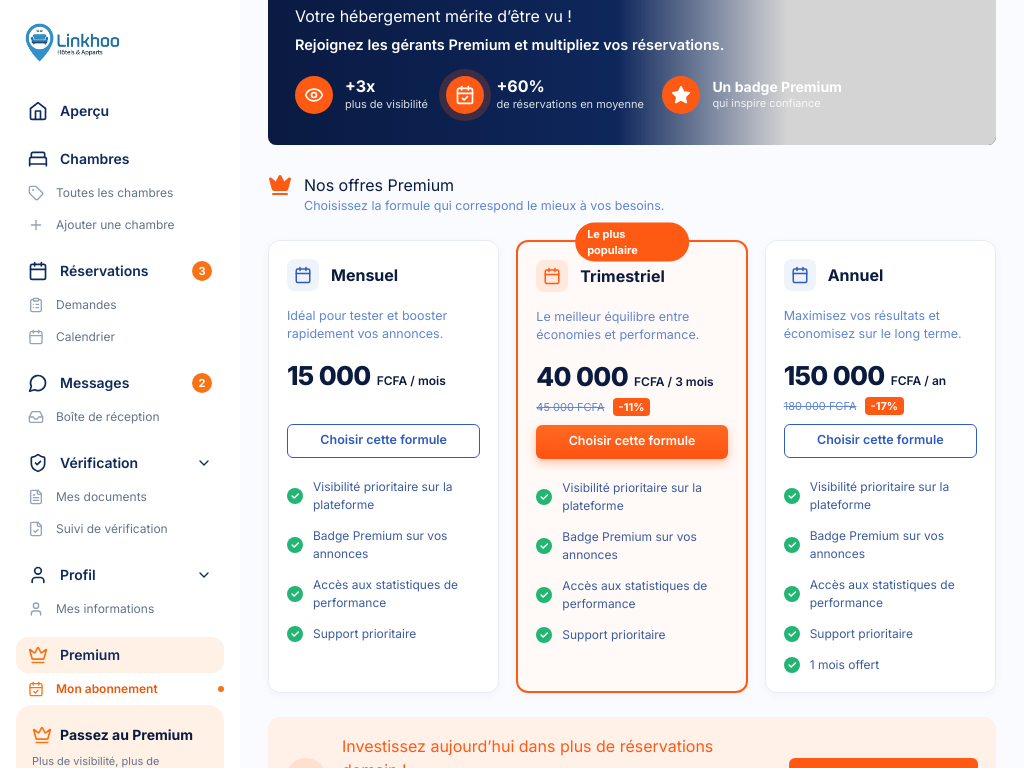
Scenario: PremiumPage › affiche une erreur générique pour un rejet non typé
(page scrolled)
Click the button "Choisir cette formule" below "15 000".
click(384, 441)  # box [287,424,480,458]
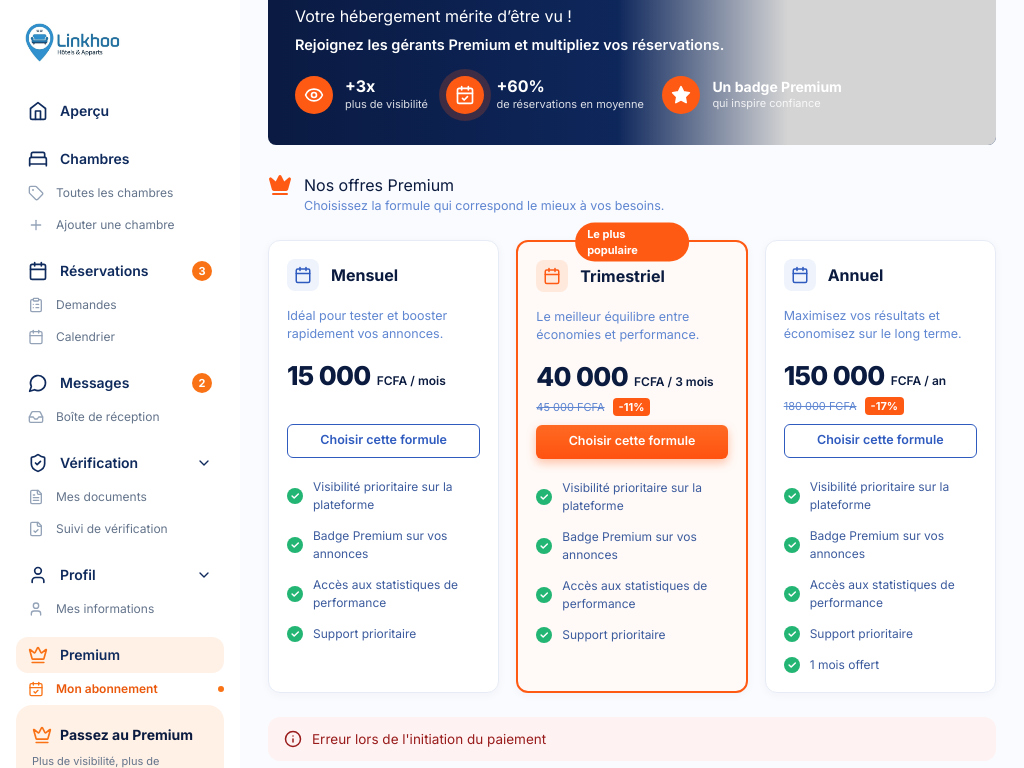
Result: the text "Erreur lors de l'initiation du paiement" is shown at [268,717,996,761]
